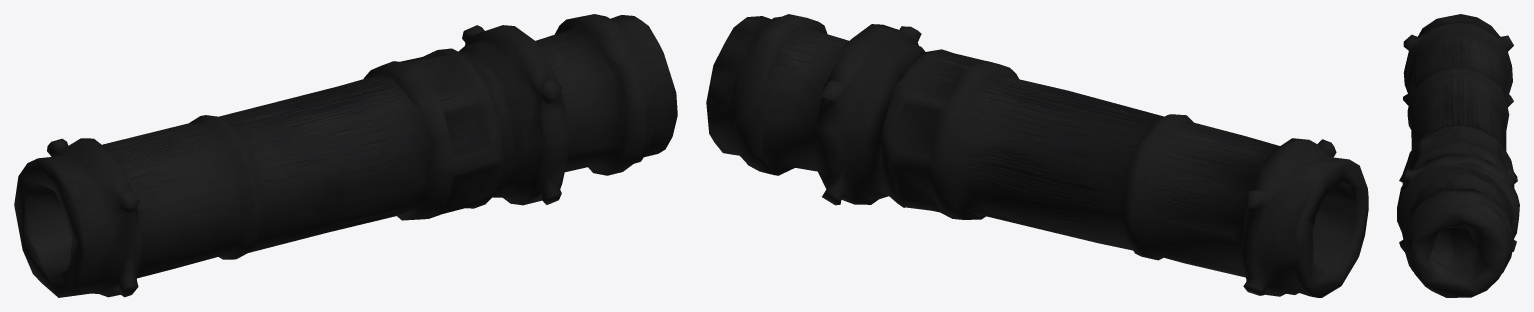
File: RoverGun.glb
3 renders of one model, left to right at view 1: azimuth 30°, elevation 25°; view 2: azimuth 150°, elevation 25°; view 3: azimuth 270°, elevation 25°, orthographic. The views are drawn at different scales.
Parts seen in each view (by area): view 1: Mesh_0; view 2: Mesh_0; view 3: Mesh_0.
Boxes of the visible parts, x1=… form: Mesh_0: x1=14, y1=14, x2=677, y2=297; Mesh_0: x1=706, y1=14, x2=1368, y2=297; Mesh_0: x1=1397, y1=14, x2=1519, y2=297.
Size of the model in its own units: 1.92 by 0.4983 by 0.5021.
1 material, 1 textured.
